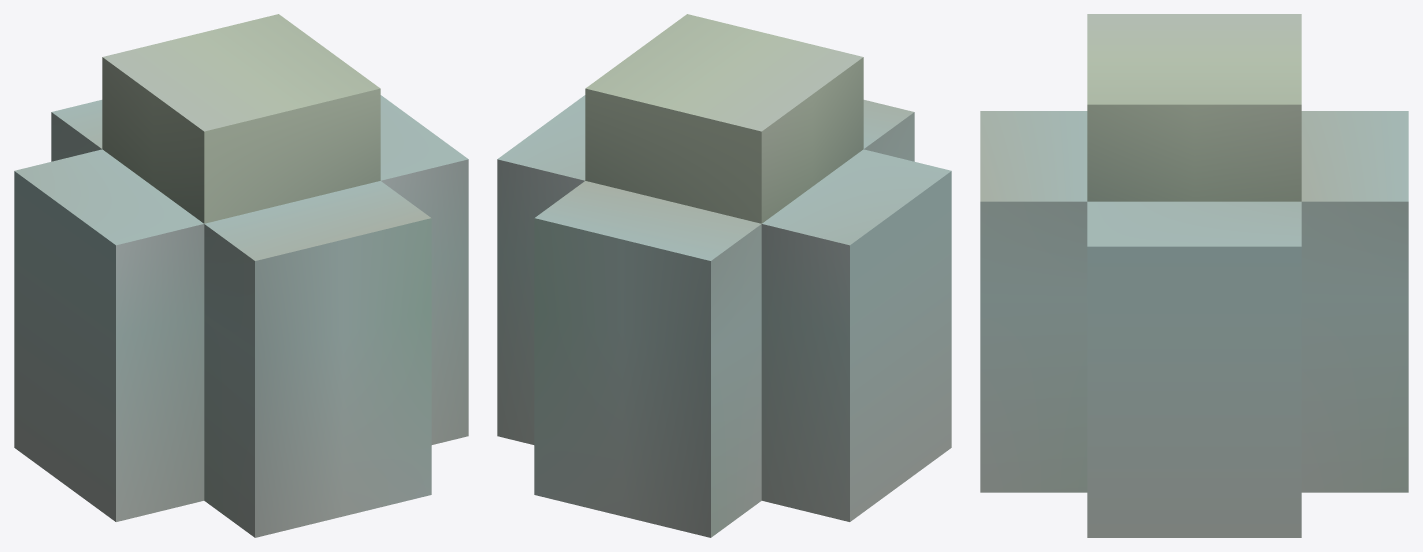
Rendered from JarGlass_01.obj.
3 views of the same model, side by side, from view 1: azimuth 30°, elevation 25°; view 2: azimuth 150°, elevation 25°; view 3: azimuth 270°, elevation 25° (orthographic). The views are drawn at different scales.
Visible parts, largest first — view 1: JarGlass_01; view 2: JarGlass_01; view 3: JarGlass_01.
Boxes of the visible parts, box(x1,y1,x2,y2) form: JarGlass_01: box(14, 14, 468, 537); JarGlass_01: box(497, 14, 951, 537); JarGlass_01: box(980, 14, 1408, 537).
Bounding box in the file's own units: 0.2 × 0.2 × 0.2.
